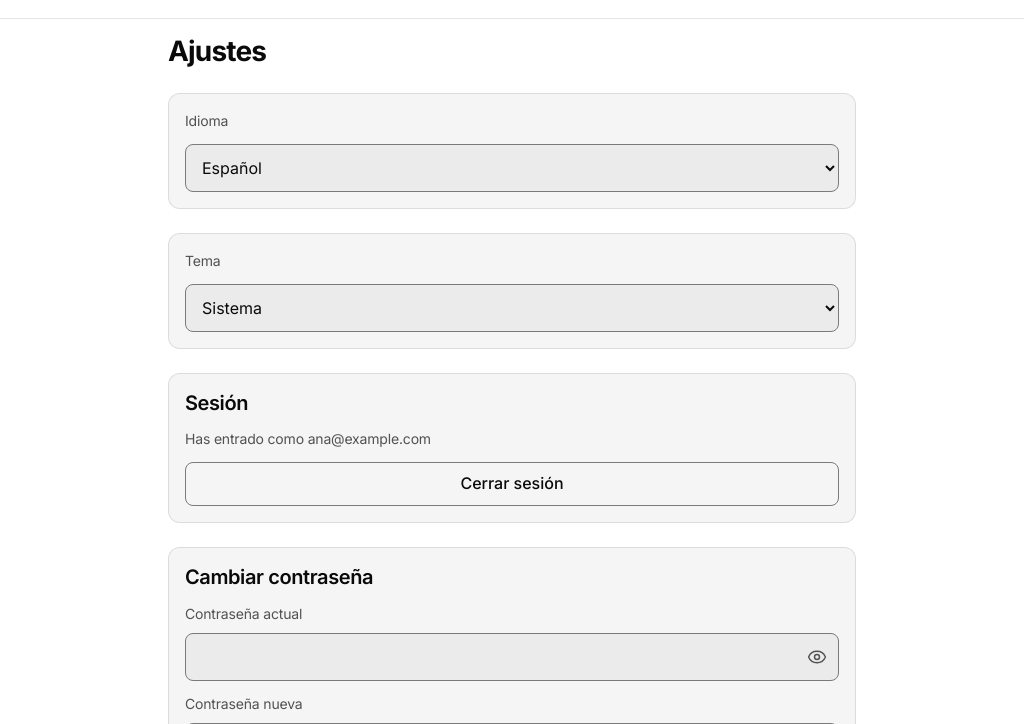
Test: cambiar la contraseña › contraseña actual incorrecta
The width and height of the screenshot is (1024, 724).
Type "incorrecta-123" into the password field labelled "Contraseña actual" at (512,657), box [185,633,839,681]
(page scrolled)
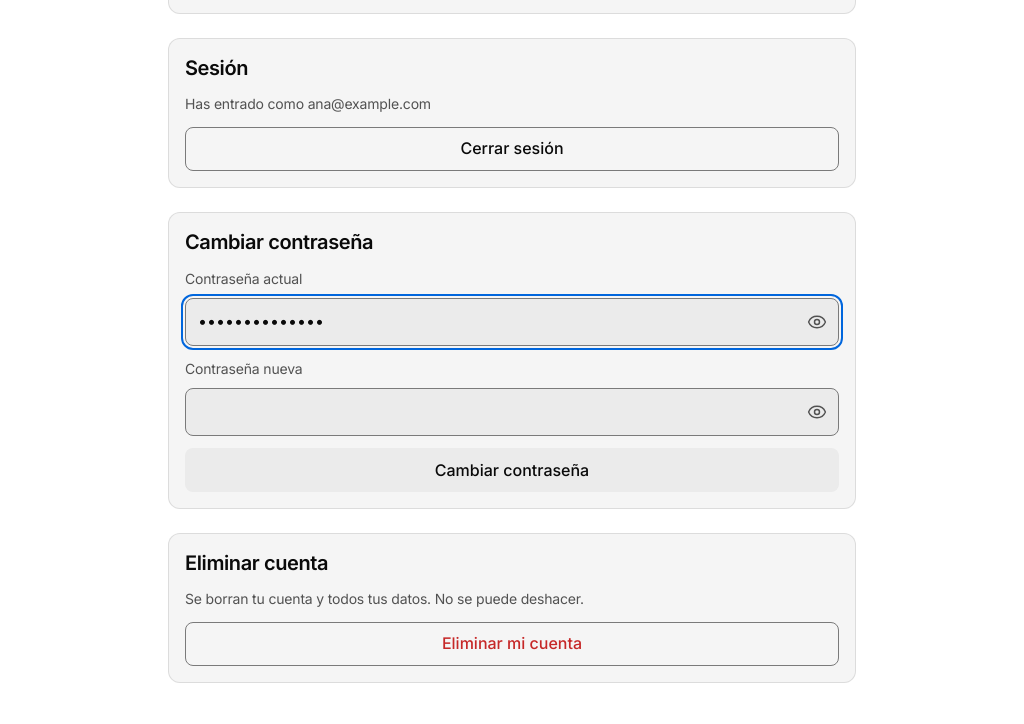
Type "nueva-clave-segura-9" into the password field labelled "Contraseña nueva" at (512,412), box [185,388,839,436]
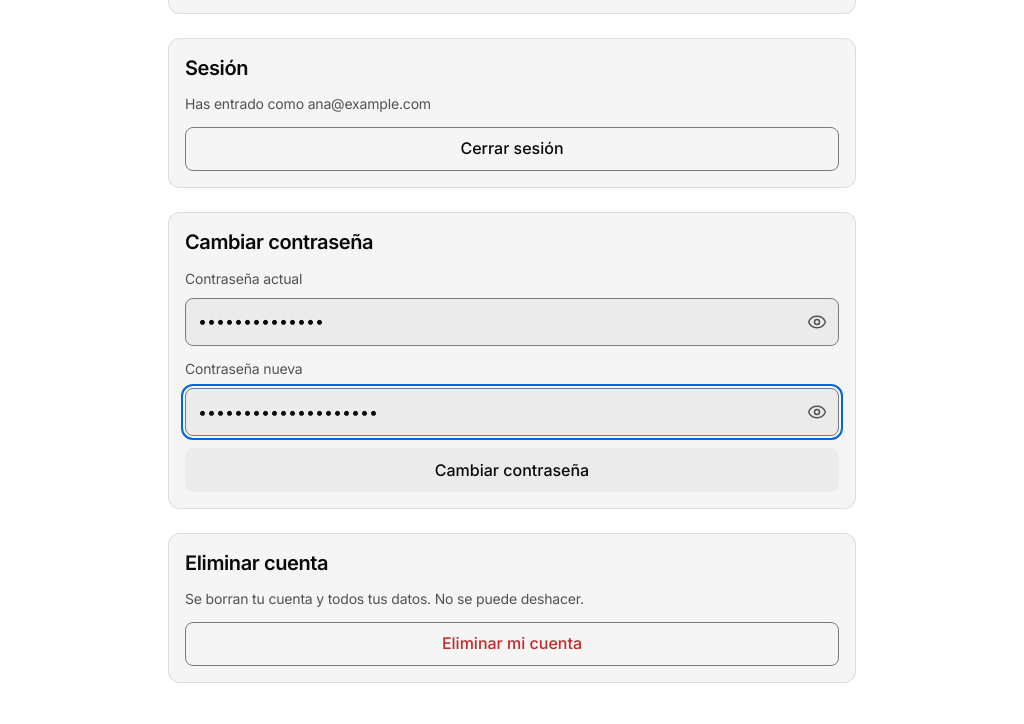
Click the button "Cambiar contraseña" at (512,470), box [185,448,839,492]
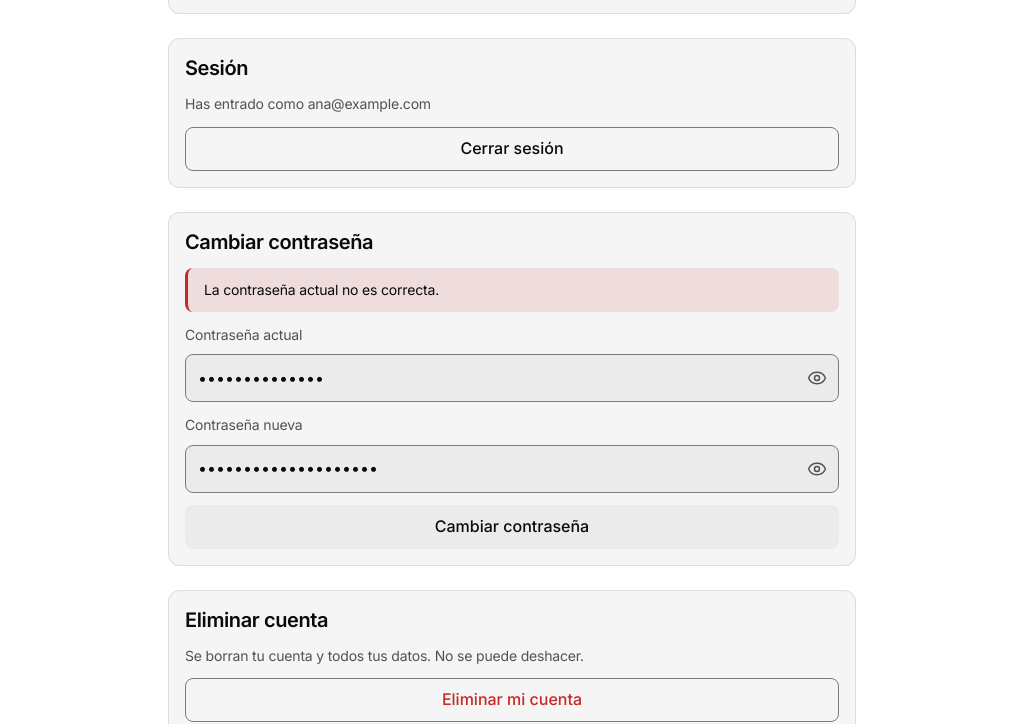
Expected: the message reads "La contraseña actual no es correcta.", [204,281,439,298]
